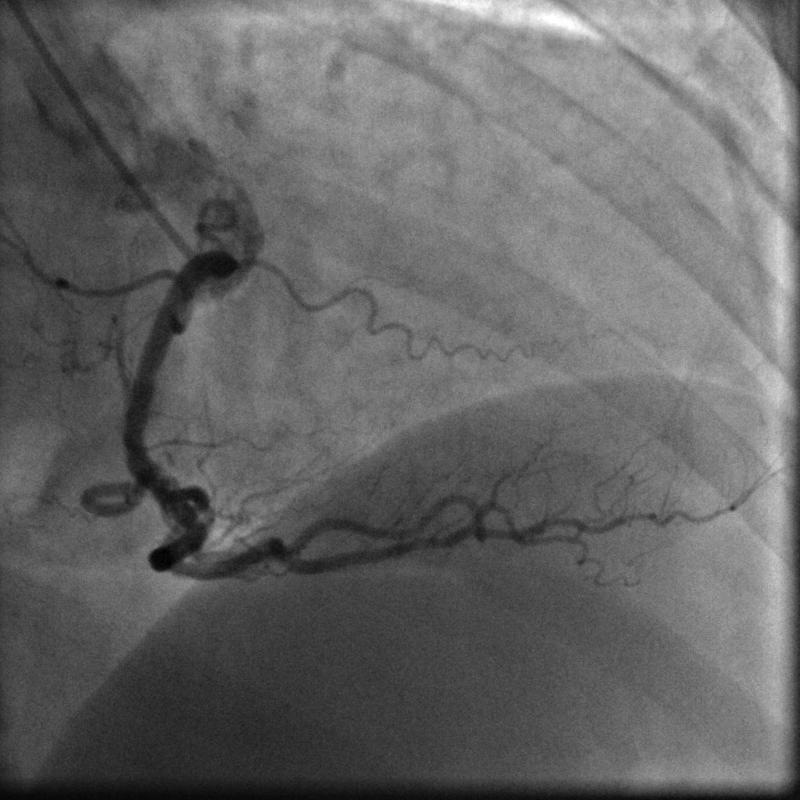Stenosis: (121, 468, 185, 505)
